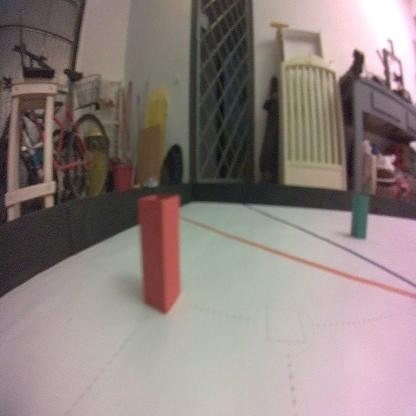green: (349, 191, 369, 240)
red: (136, 192, 181, 316)
